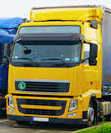truck: (5, 5, 111, 127)
